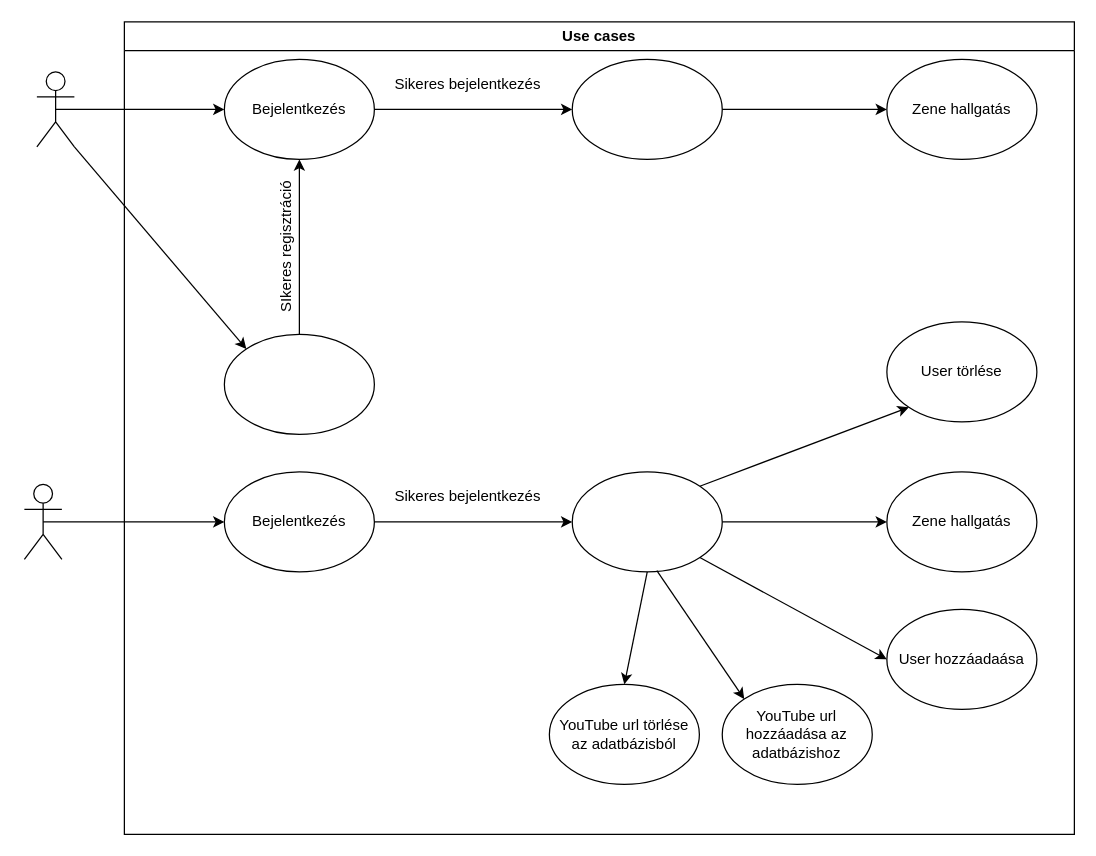
Image size: 1096x856. Some labels were removed from this diagram. The shapes that lost their labels are listed below. From the top down, each one's centre as x and y in pixels, then its label:
At [55,109]: "User".
At [646,108]: "Főmenü".
At [298,383]: "Regisztráció".
At [42,521]: "Admin".
At [646,521]: "Admin főmenü".
